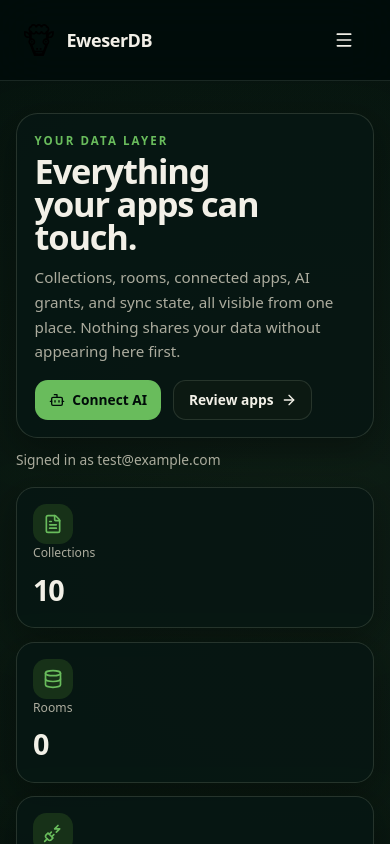
Test case: auth-pages app › keeps sign out in the mobile account menu for signed-in users
The image size is (390, 844).
expect the heading "Everything your apps can touch." is shown: met, box [35,155,290,253]
Click the button named "open account menu". click: (344, 40)
box: [322,18,366,62]
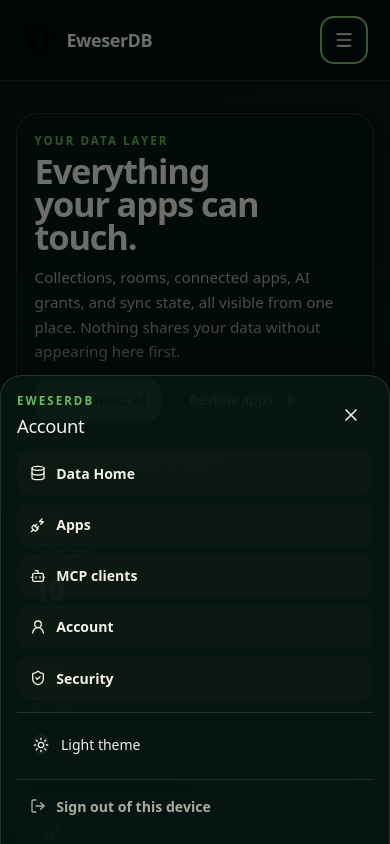
expect the navigation bar named "account navigation" is shown: met, box [17,451,373,700]
expect the button with aria-label "use light theme" is shown: met, box [17,723,373,767]
